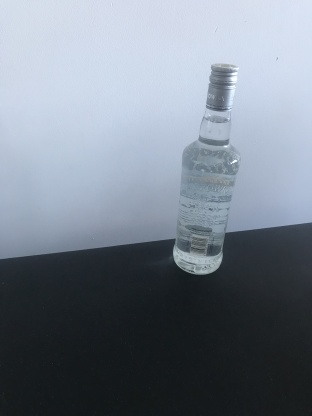nakretka: (204, 60, 240, 113)
